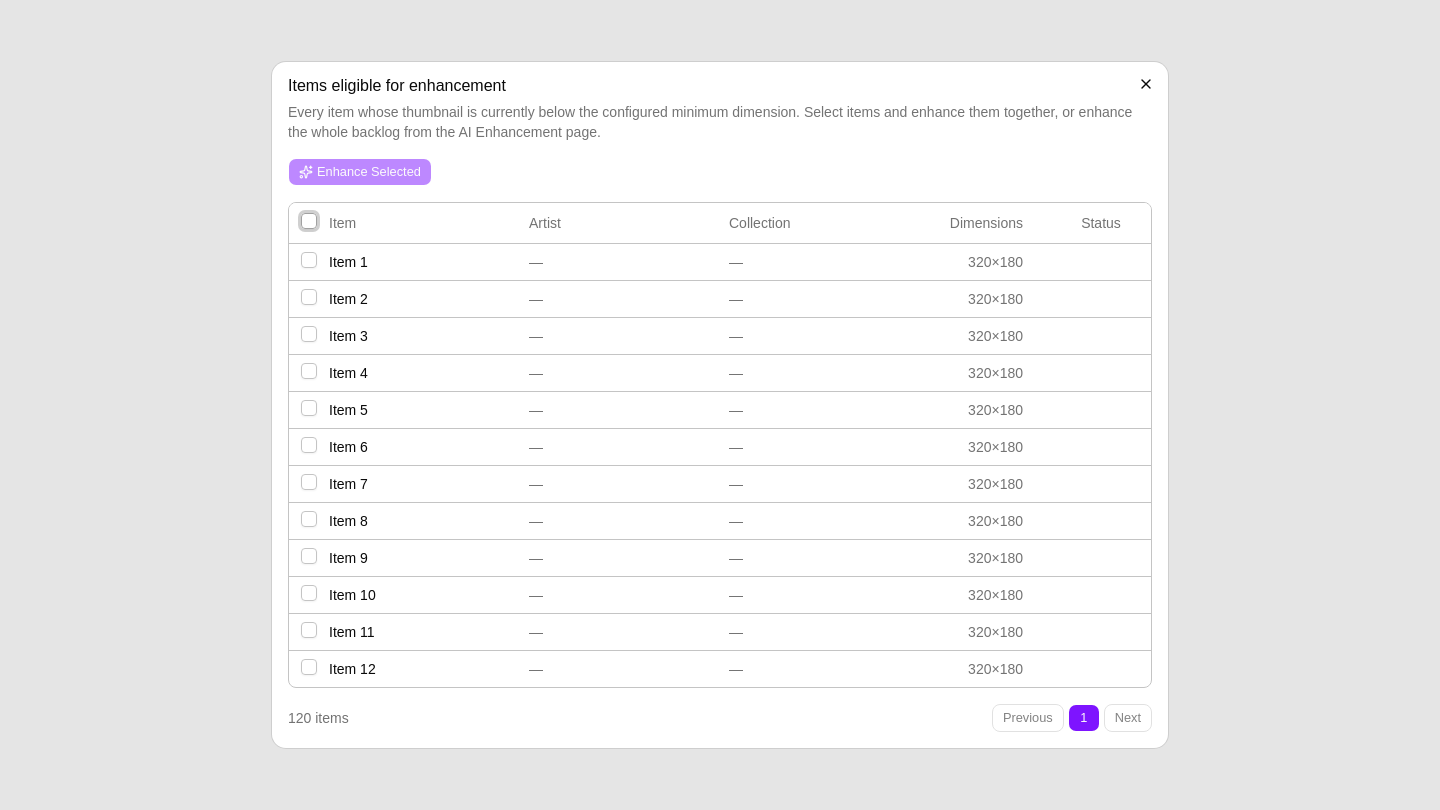
Test: EligibleItemsDialog › selects every item on select-all, however many there are
Click the checkbox named "Select all" at (309, 221), box [301,213,317,229]
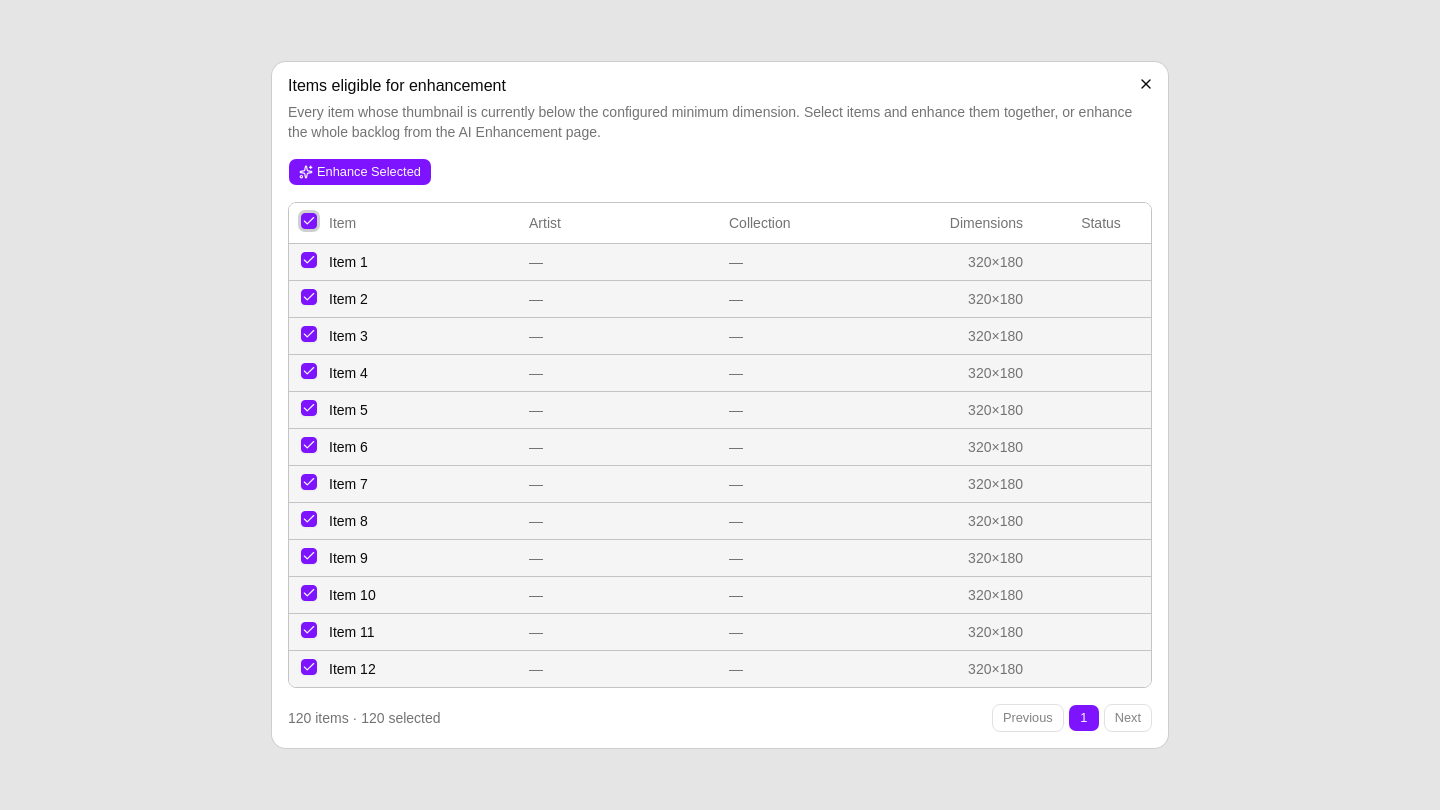
Expected: the text "120 items · 120 selected" is shown, [288,708,440,728]
